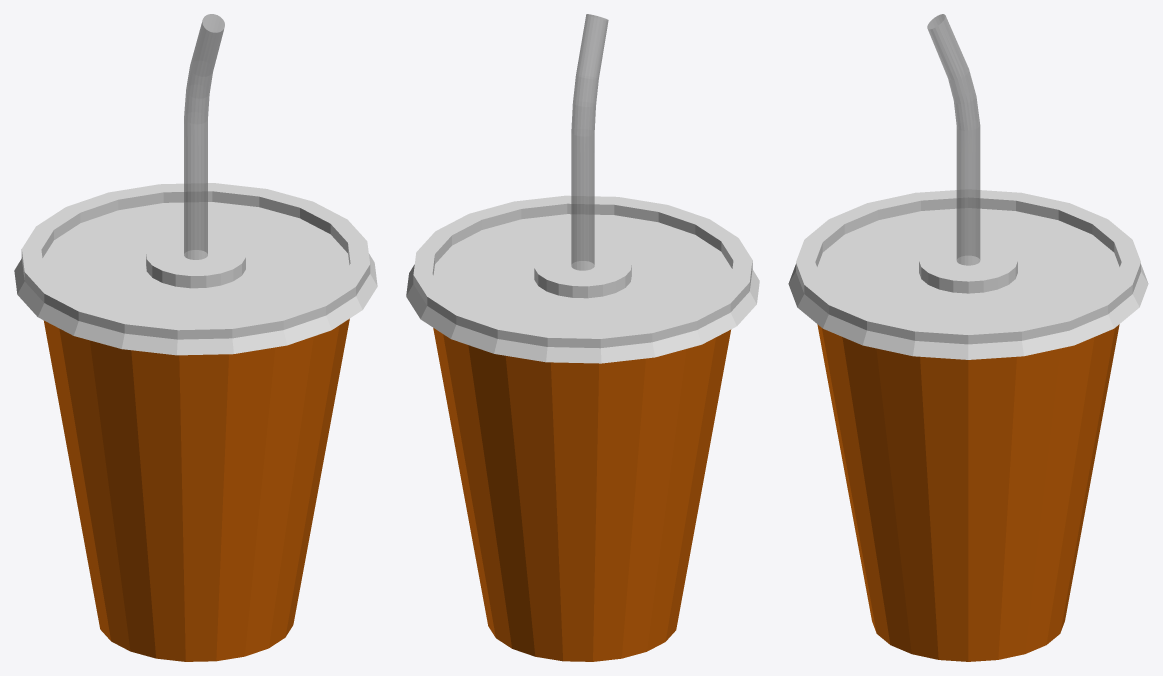
Rendered from Drink.fbx.
The picture shows the model from 3 angles, left to right: view 1: azimuth 30°, elevation 25°; view 2: azimuth 150°, elevation 25°; view 3: azimuth 270°, elevation 25°; orthographic projection. The views are drawn at different scales.
Visible parts, largest first — view 1: Cup; view 2: Cup; view 3: Cup.
Part boxes in pixels (left/top/right/bottom): Cup: left=14, top=14, right=377, bottom=661; Cup: left=406, top=14, right=759, bottom=661; Cup: left=788, top=14, right=1148, bottom=661.
Bounding box in the file's own units: 2.39 × 4.44 × 2.39.
